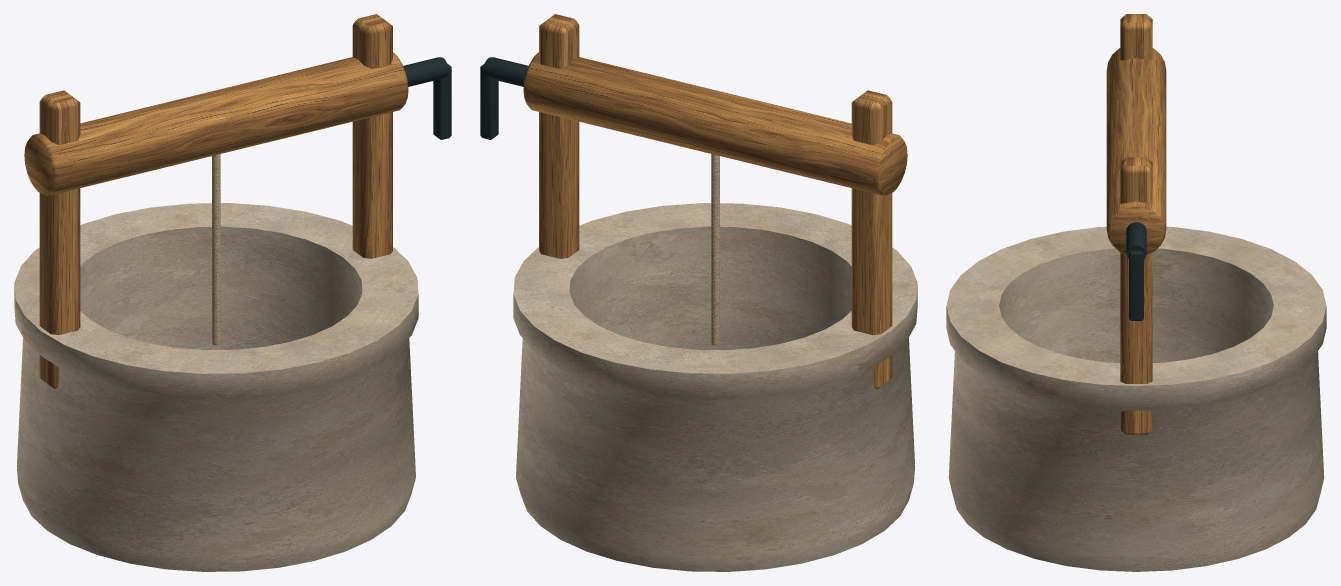
The model's file is 24_Pozo.obj.
3 renders of one model, left to right at view 1: azimuth 30°, elevation 25°; view 2: azimuth 150°, elevation 25°; view 3: azimuth 270°, elevation 25°, orthographic. The views are drawn at different scales.
Visible parts, largest first — view 1: 24_Pozo_Stone, 24_Pozo_Wood, 24_Pozo_Iron, 24_Pozo_Rope; view 2: 24_Pozo_Stone, 24_Pozo_Wood, 24_Pozo_Iron, 24_Pozo_Rope; view 3: 24_Pozo_Stone, 24_Pozo_Wood, 24_Pozo_Iron.
Part boxes in pixels (box(x1,y1,x2,y2)): 24_Pozo_Stone: box(14, 203, 418, 571); 24_Pozo_Wood: box(24, 14, 408, 389); 24_Pozo_Iron: box(403, 57, 451, 139); 24_Pozo_Rope: box(212, 154, 220, 345); 24_Pozo_Stone: box(513, 203, 917, 571); 24_Pozo_Wood: box(523, 14, 907, 389); 24_Pozo_Iron: box(480, 57, 528, 139); 24_Pozo_Rope: box(711, 154, 719, 345); 24_Pozo_Stone: box(946, 226, 1326, 571); 24_Pozo_Wood: box(1106, 14, 1166, 434); 24_Pozo_Iron: box(1126, 222, 1146, 320).
Bounding box in the file's own units: 1.94 × 1.95 × 1.66.
4 materials, 3 textured.
